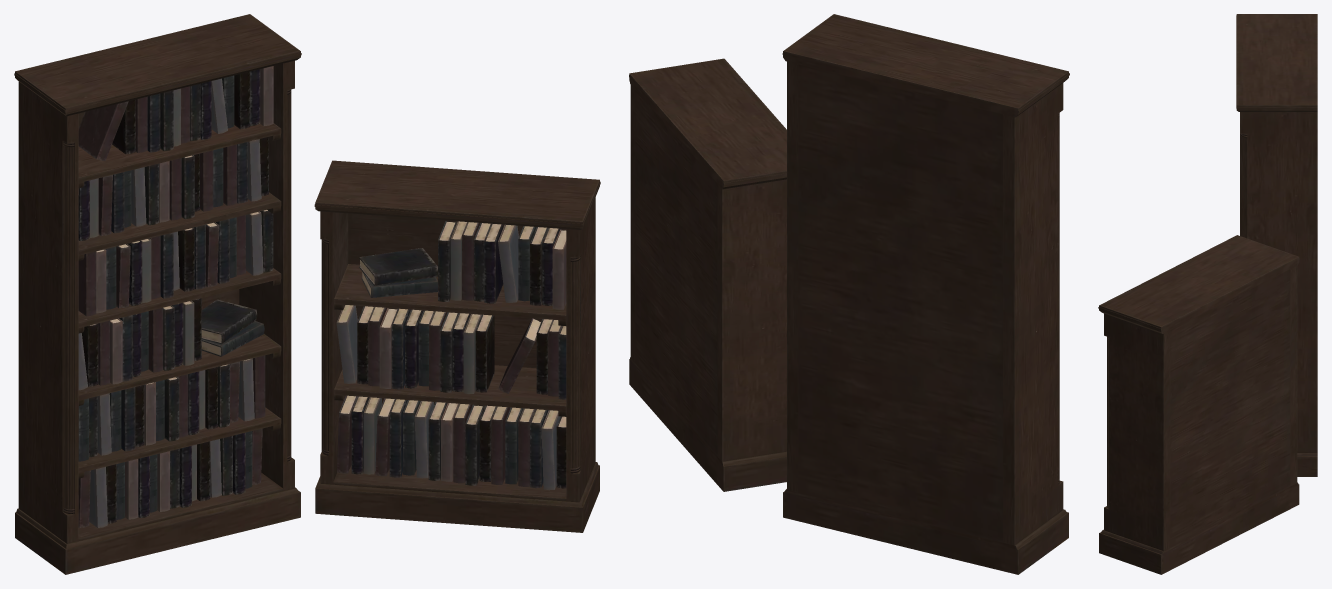
Rendered from bookshelf.glb.
The picture shows the model from 3 angles, left to right: view 1: azimuth 30°, elevation 25°; view 2: azimuth 150°, elevation 25°; view 3: azimuth 270°, elevation 25°; orthographic projection. The views are drawn at different scales.
Visible parts, largest first — view 1: Victorian Bookcase Small Books 1_Victorian Bookcase Tall_0; view 2: Victorian Bookcase Small Books 1_Victorian Bookcase Tall_0; view 3: Victorian Bookcase Small Books 1_Victorian Bookcase Tall_0.
Part boxes in pixels (x1,y1,x2,y2): Victorian Bookcase Small Books 1_Victorian Bookcase Tall_0: (14, 14, 600, 574); Victorian Bookcase Small Books 1_Victorian Bookcase Tall_0: (629, 14, 1069, 574); Victorian Bookcase Small Books 1_Victorian Bookcase Tall_0: (1098, 14, 1317, 574).
Size of the model in its own units: 2.4 by 2.19 by 1.17.
Materials: 1 (1 with a texture image).
